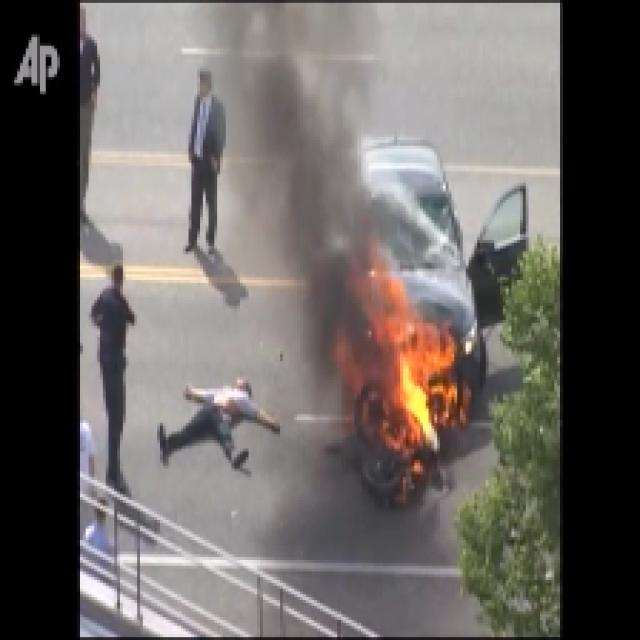fire: (384, 324, 460, 444)
smoke: (275, 72, 378, 336)
